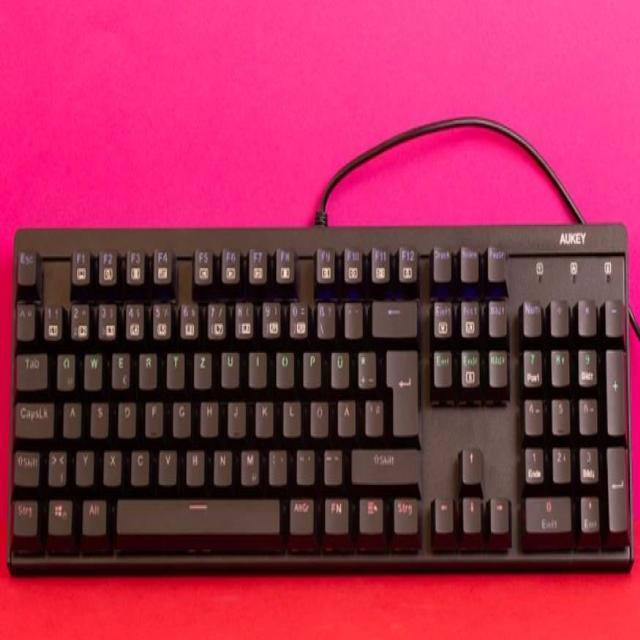0: (288, 299, 308, 337)
1: (43, 300, 62, 341)
2: (69, 299, 88, 340)
3: (97, 300, 117, 341)
4: (124, 300, 145, 341)
5: (151, 299, 171, 340)
6: (178, 298, 199, 338)
7: (206, 299, 226, 338)
8: (234, 299, 254, 337)
9: (261, 299, 281, 337)
a: (61, 398, 80, 435)
accent: (342, 298, 362, 341)
ae: (336, 396, 355, 434)
alt-left: (80, 495, 106, 534)
altgr-right: (287, 495, 314, 532)
b: (184, 446, 204, 484)
c: (129, 446, 148, 482)
caret: (15, 298, 34, 338)
comma: (267, 446, 286, 484)
d: (117, 398, 136, 435)
del: (370, 298, 416, 334)
e: (110, 349, 129, 387)
enter: (385, 345, 418, 434)
f: (144, 397, 163, 434)
g: (171, 397, 190, 434)
h: (198, 397, 218, 434)
hash: (364, 396, 383, 433)
i: (247, 348, 266, 384)
j: (226, 397, 245, 434)
k: (254, 397, 273, 434)
keyboard: (5, 216, 633, 581)
l: (281, 397, 300, 434)
less: (46, 447, 66, 484)
m: (239, 446, 259, 484)
minus: (322, 446, 341, 482)
n: (212, 446, 231, 484)
o: (275, 350, 294, 388)
oe: (309, 397, 328, 434)
p: (302, 348, 321, 385)
plus: (356, 348, 375, 387)
point: (295, 446, 314, 482)
q: (55, 349, 74, 388)
r: (138, 349, 157, 387)
s: (89, 399, 108, 435)
shift-left: (12, 446, 40, 485)
shift-lock: (14, 398, 54, 437)
shift-right: (349, 445, 419, 482)
space: (113, 496, 280, 532)
ss: (315, 301, 335, 338)
strg-left: (11, 496, 37, 535)
strg-right: (392, 495, 419, 532)
t: (165, 349, 184, 387)
tab: (14, 349, 47, 388)
u: (220, 348, 239, 385)
ue: (329, 348, 348, 385)
v: (157, 446, 176, 482)
w: (82, 349, 102, 388)
x: (102, 446, 121, 484)
y: (74, 447, 93, 484)
z: (192, 349, 211, 385)
